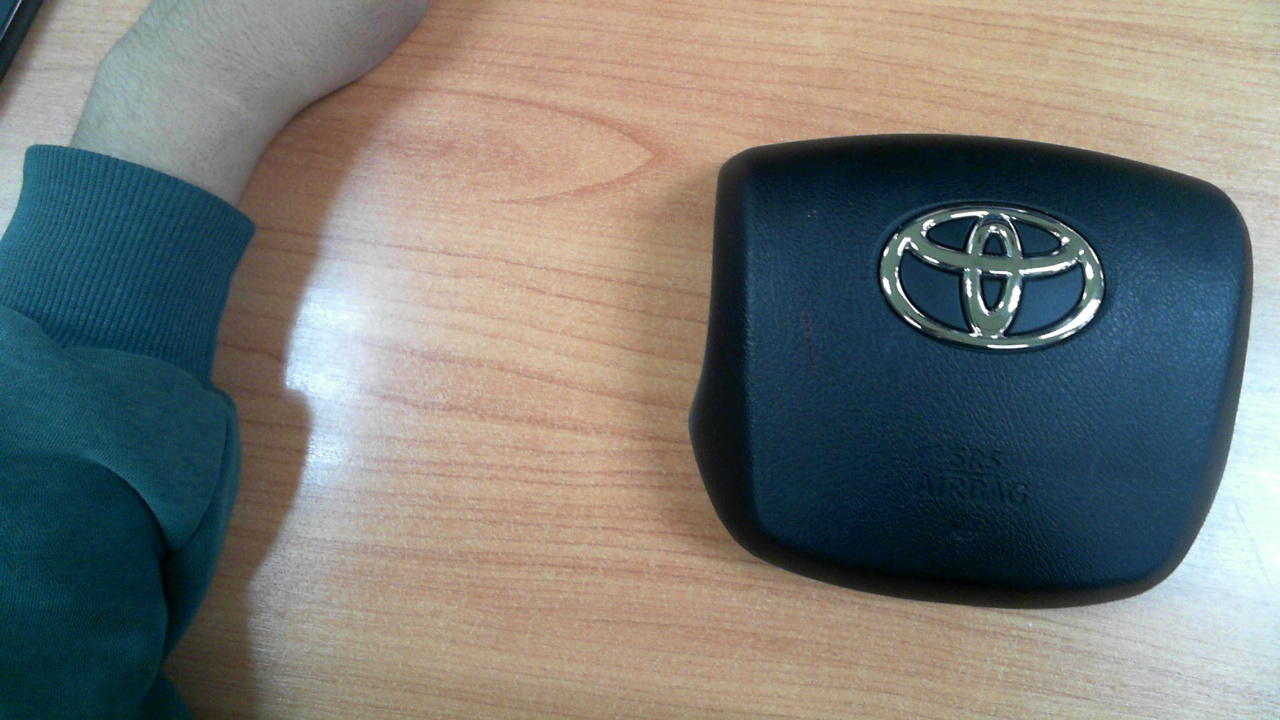Airbag: (690, 134, 1259, 607)
Toyota: (879, 204, 1105, 350)
